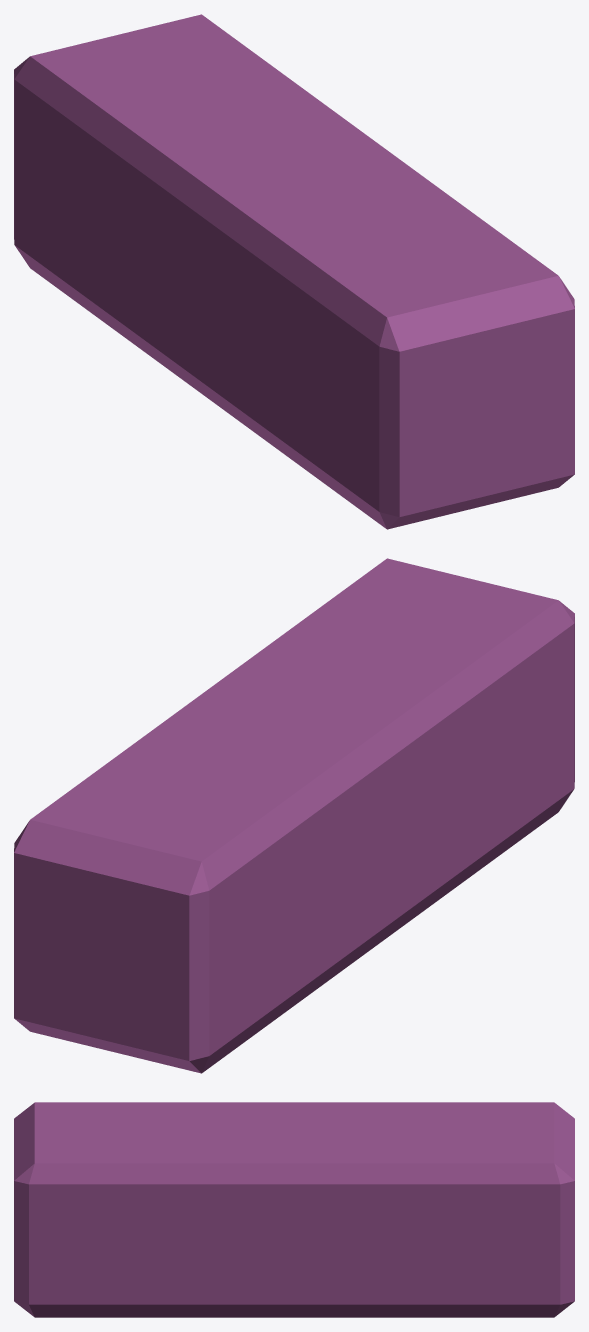
The model's file is BloqueRosa.fbx.
3 views of the same model, one above another, from view 1: azimuth 30°, elevation 25°; view 2: azimuth 150°, elevation 25°; view 3: azimuth 270°, elevation 25° (orthographic). The views are drawn at different scales.
Parts seen in each view (by area): view 1: Cube; view 2: Cube; view 3: Cube.
Boxes of the visible parts, x1=… form: Cube: x1=14, y1=14, x2=574, y2=529; Cube: x1=14, y1=558, x2=574, y2=1073; Cube: x1=14, y1=1102, x2=574, y2=1317.
Bounding box in the file's own units: 111 × 115 × 380.
